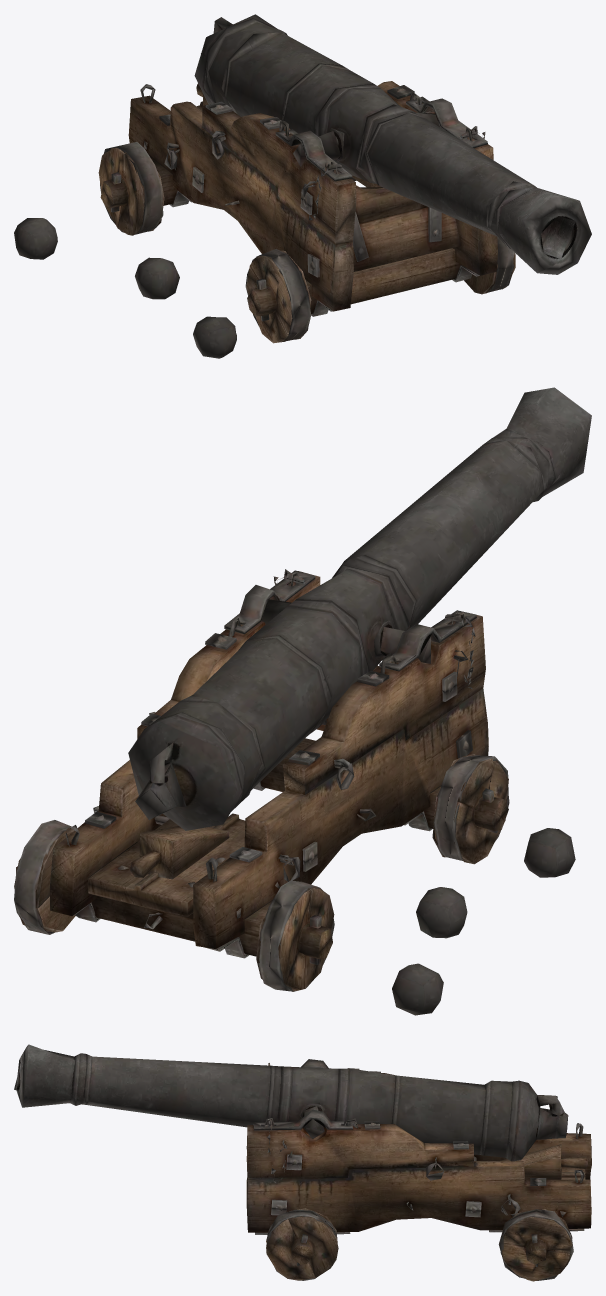
Rendered from cannon_01.glb.
3 views of the same model, one above another, from view 1: azimuth 30°, elevation 25°; view 2: azimuth 150°, elevation 25°; view 3: azimuth 270°, elevation 25° (orthographic). The views are drawn at different scales.
Visible parts, largest first — view 1: cannon_01_frame, cannon_01_barrel; view 2: cannon_01_frame, cannon_01_barrel; view 3: cannon_01_frame, cannon_01_barrel.
Boxes of the visible parts, x1,y1,x2,y2 form: cannon_01_frame: [14, 81, 515, 358]; cannon_01_barrel: [194, 14, 591, 274]; cannon_01_frame: [14, 569, 575, 1015]; cannon_01_barrel: [128, 387, 591, 830]; cannon_01_frame: [246, 1059, 591, 1281]; cannon_01_barrel: [14, 1044, 568, 1161].
Size of the model in its own units: 1.27 by 0.8572 by 2.3.
1 material, 1 textured.
